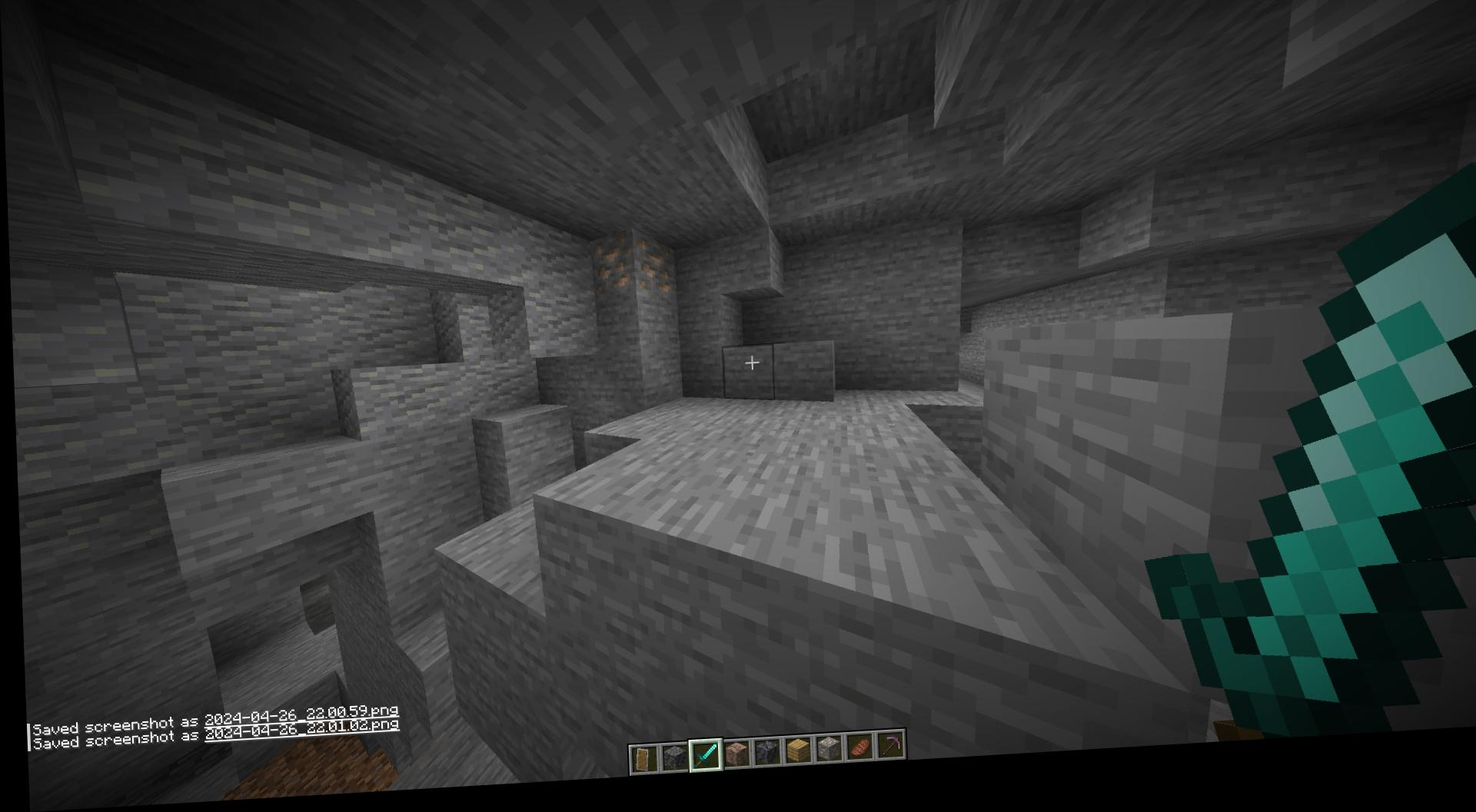iron ore: (628, 238, 682, 308), (582, 240, 632, 303)
